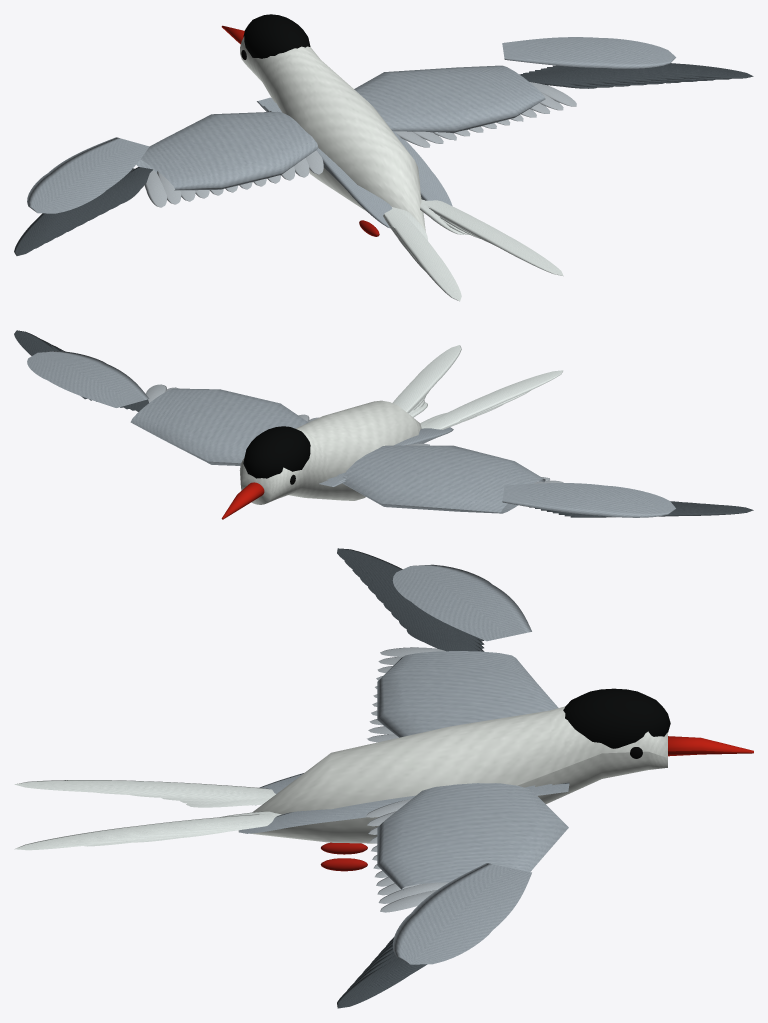
File: arctic_tern.glb
3 renders of one model, top to bottom at view 1: azimuth 30°, elevation 25°; view 2: azimuth 150°, elevation 25°; view 3: azimuth 270°, elevation 25°, orthographic. The views are drawn at different scales.
Visible parts, largest first — view 1: CoastalGullMesh, LeftWingMesh, RightWingMesh, RightWingTipMesh, LeftWingTipMesh, FoldedWingsMesh; view 2: CoastalGullMesh, LeftWingMesh, RightWingMesh, LeftWingTipMesh, RightWingTipMesh, FoldedWingsMesh; view 3: CoastalGullMesh, RightWingMesh, LeftWingMesh, LeftWingTipMesh, RightWingTipMesh, FoldedWingsMesh, LegsMesh.
Part boxes in pixels (x1,y1,x2,y2): CoastalGullMesh: [221, 14, 563, 301]; LeftWingMesh: [136, 111, 323, 207]; RightWingMesh: [354, 65, 576, 147]; RightWingTipMesh: [502, 37, 753, 88]; LeftWingTipMesh: [14, 137, 152, 255]; FoldedWingsMesh: [257, 97, 452, 228]; CoastalGullMesh: [221, 345, 563, 519]; LeftWingMesh: [342, 443, 563, 513]; RightWingMesh: [130, 384, 318, 465]; LeftWingTipMesh: [502, 483, 753, 517]; RightWingTipMesh: [14, 330, 149, 411]; FoldedWingsMesh: [319, 427, 453, 486]; CoastalGullMesh: [14, 688, 753, 850]; RightWingMesh: [366, 783, 568, 912]; LeftWingMesh: [367, 647, 558, 742]; LeftWingTipMesh: [337, 548, 531, 651]; RightWingTipMesh: [337, 863, 531, 1008]; FoldedWingsMesh: [239, 773, 569, 833]; LegsMesh: [320, 842, 367, 871].
Bounding box in the file's own units: 0.824 × 0.142 × 0.56.
Materials: 1 (1 with a texture image).
